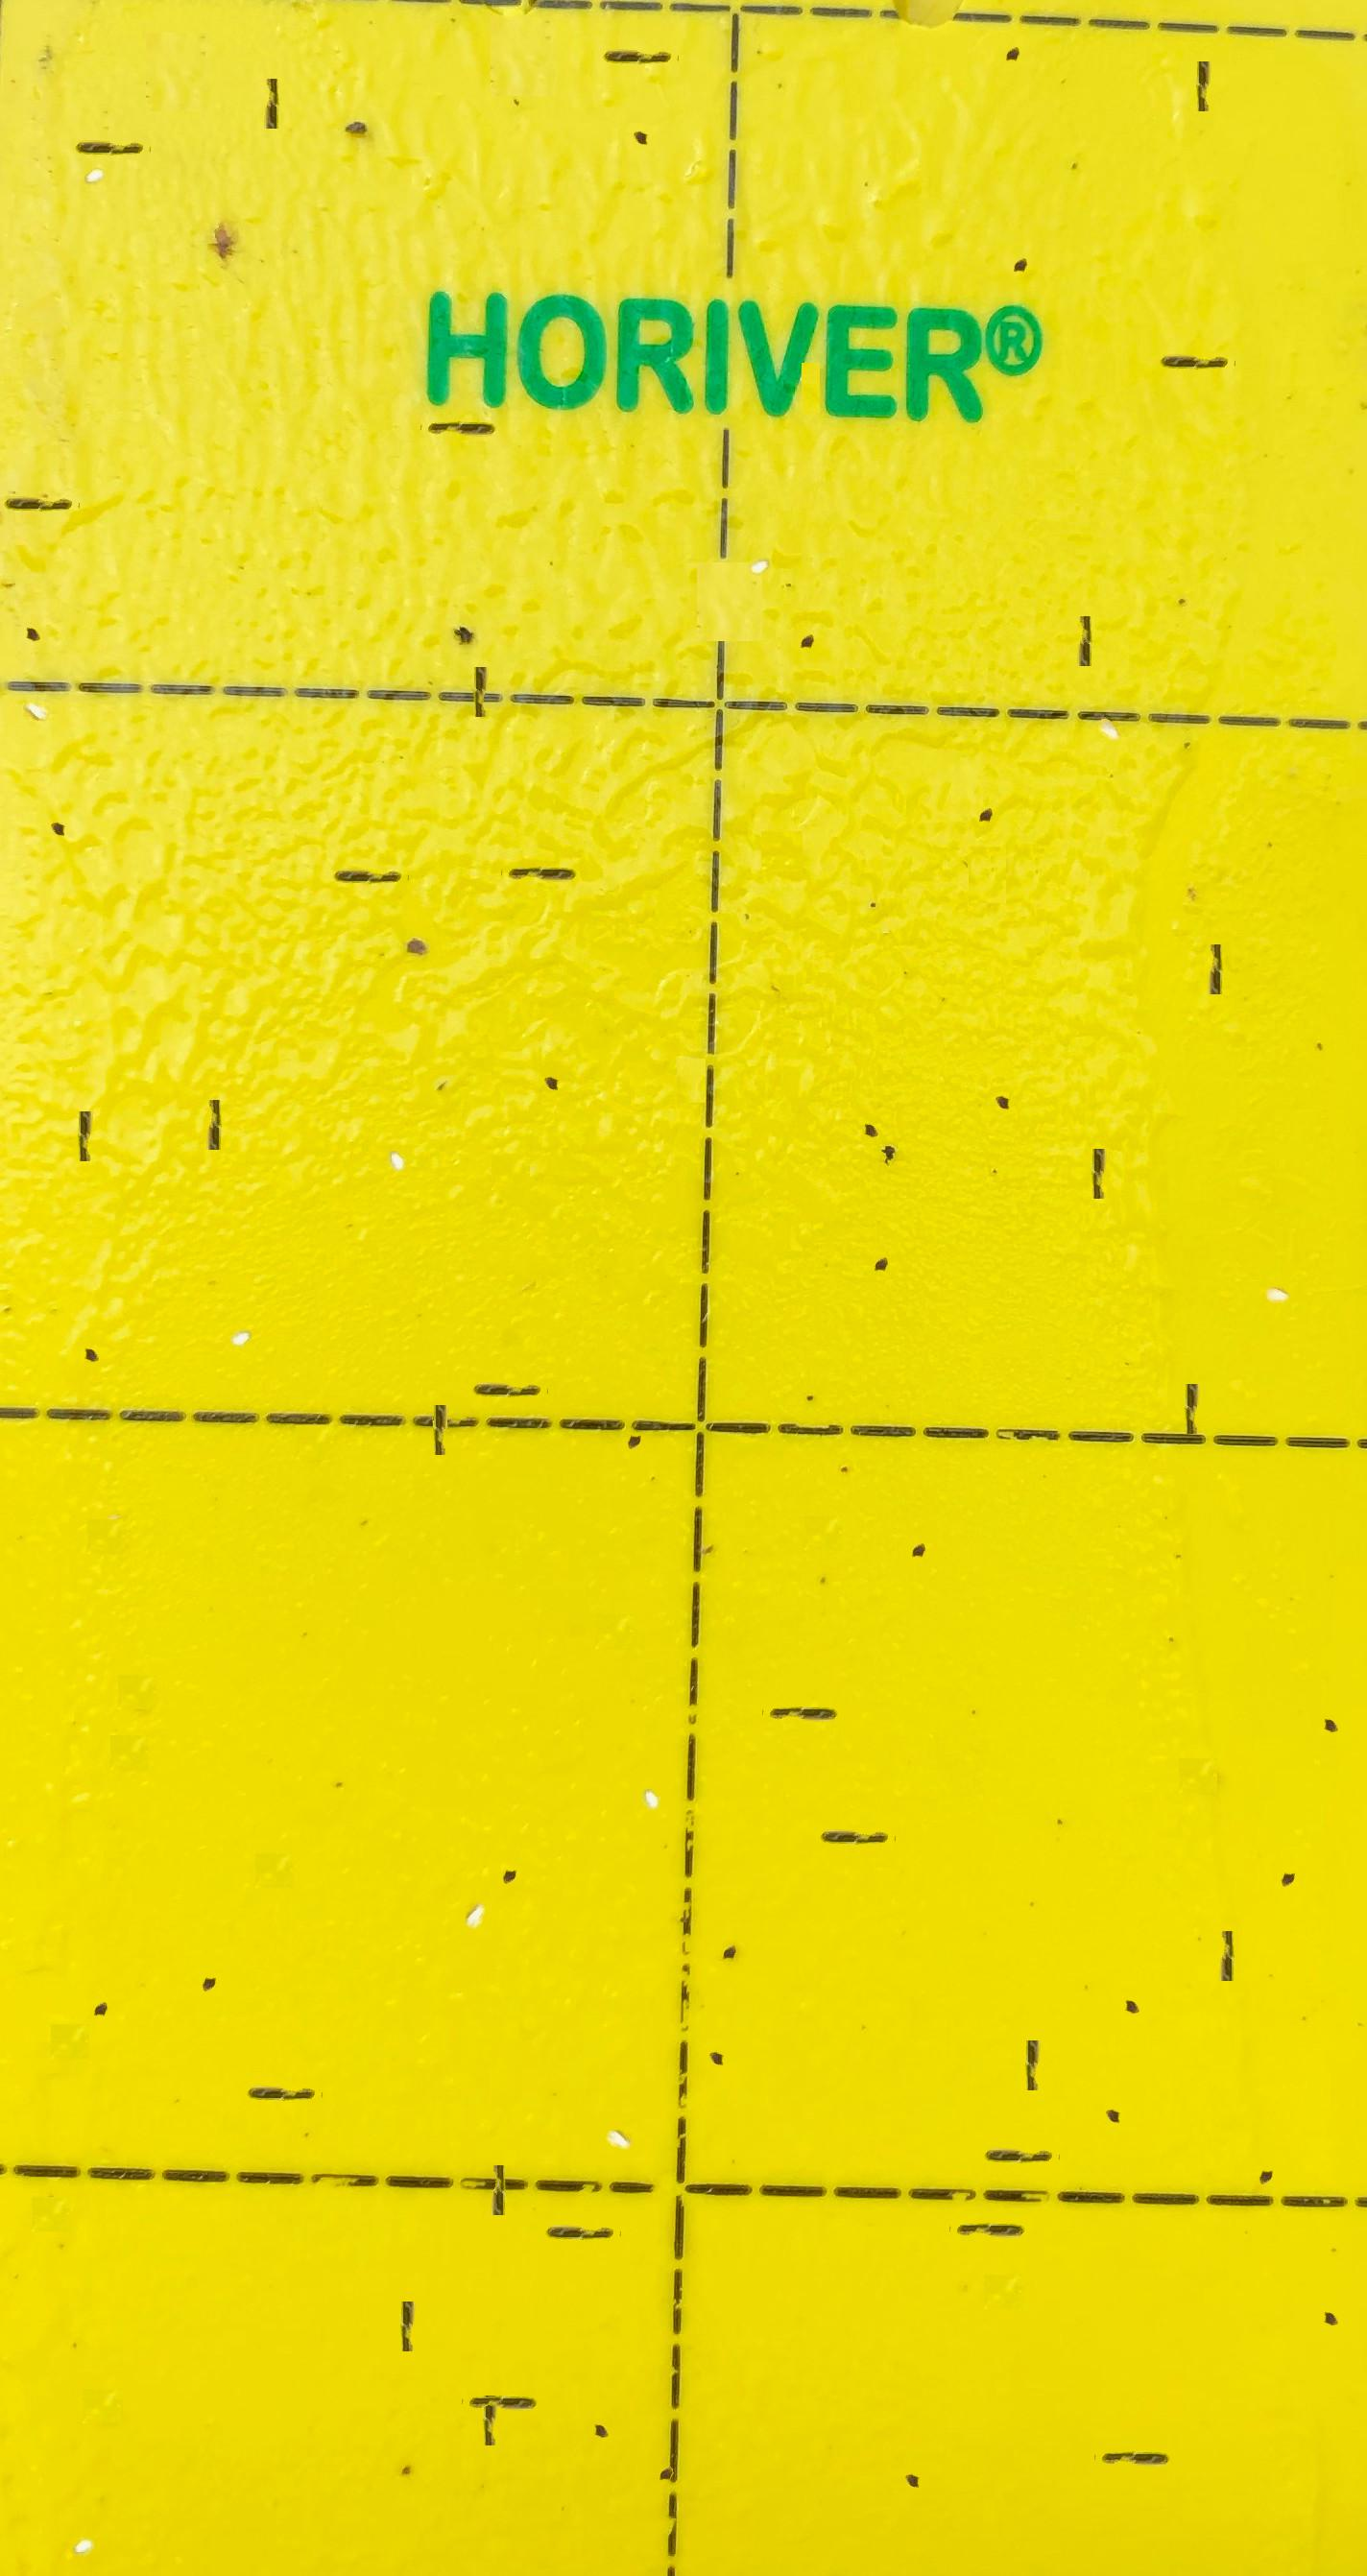white_fly: (75, 104, 118, 153), (63, 2475, 106, 2523), (218, 1266, 261, 1314), (375, 1090, 418, 1138), (629, 1729, 672, 1777), (738, 494, 779, 542), (595, 2073, 637, 2118), (1087, 664, 1130, 707), (457, 1852, 498, 1896), (19, 642, 60, 687), (1256, 1237, 1297, 1274)
